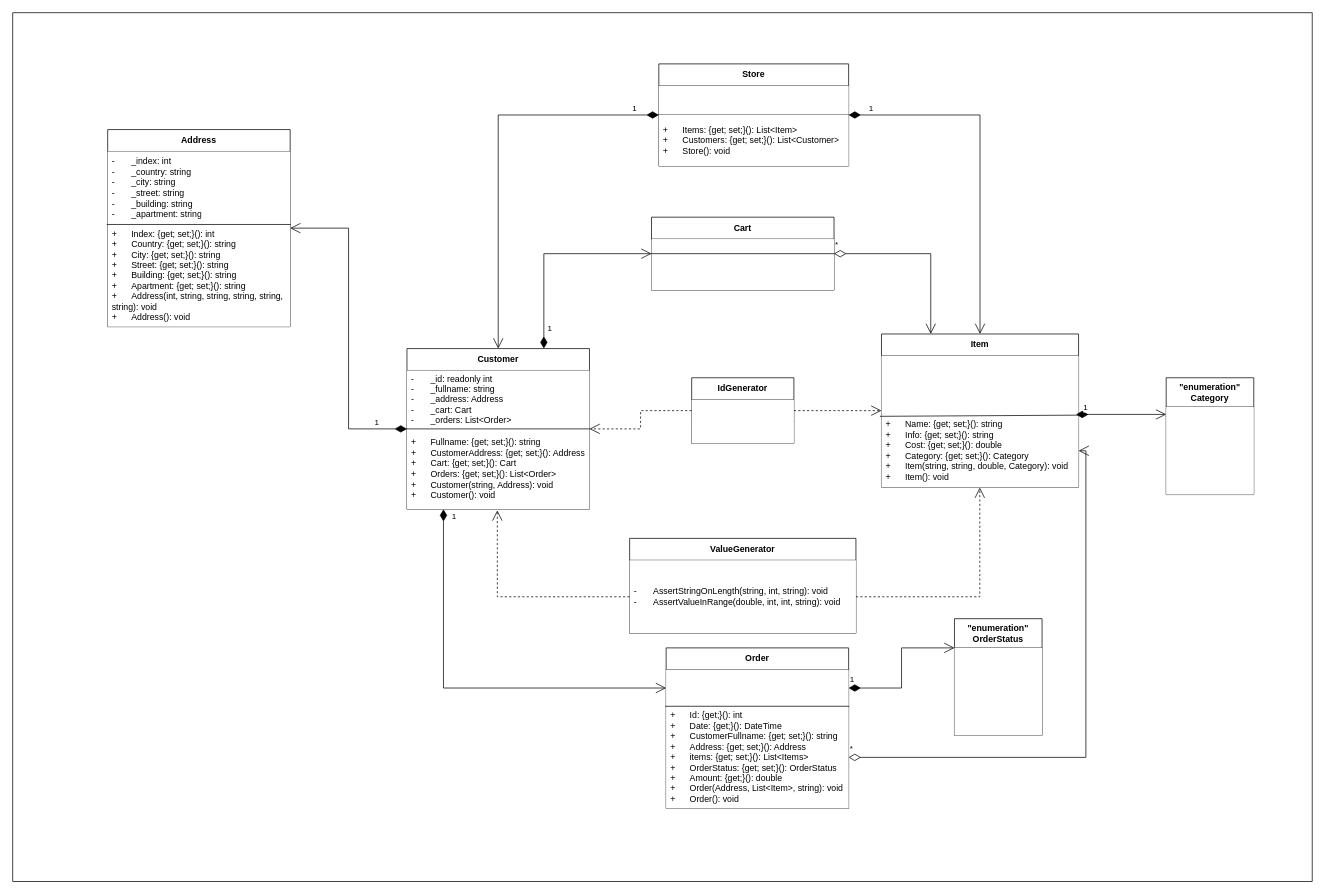
This 1325x894 diagram has some shape labels left out. Each missing label, with the centre of its shape:
"+ Items: {get; set;}(): List<Item> + Amount: {get;}(): double + Cart(): void" goes at pixel 742 271.
"- _id: int - _data: DateTime - _customerFullname: string" goes at pixel 757 687.
"- _id: readonly int - _name: string - _info: string - _cost: double" goes at pixel 979 385.
"- _items: List<Item>" goes at pixel 742 246.
"- _items: List<Item> - _customers: List<Customer>" goes at pixel 753 100.
"- _nextId: int" goes at pixel 742 410.
"- GetNextId(): int" goes at pixel 742 432.
"Medicine Clothing Products Technique Chancellery Books Groceries" goes at pixel 1209 450.
"New Processing Assembly Sent Delivered Returned Abandoned" goes at pixel 998 691.
